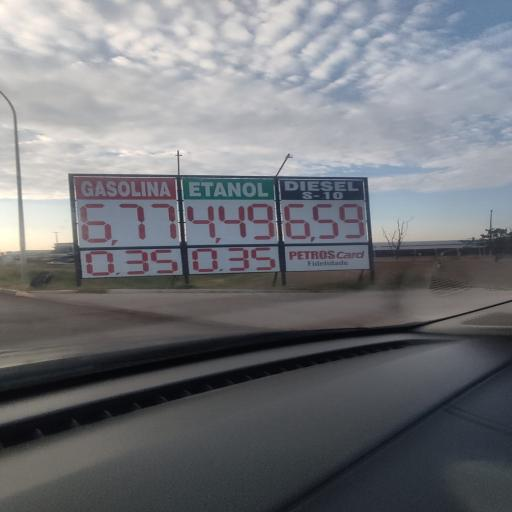ETANOL: (187, 179, 273, 200)
GASOLINA C: (77, 178, 174, 200)
S10: (282, 180, 361, 200)
placa: (74, 177, 370, 249)
preco: (80, 200, 180, 247), (184, 201, 277, 244), (282, 200, 368, 243)
